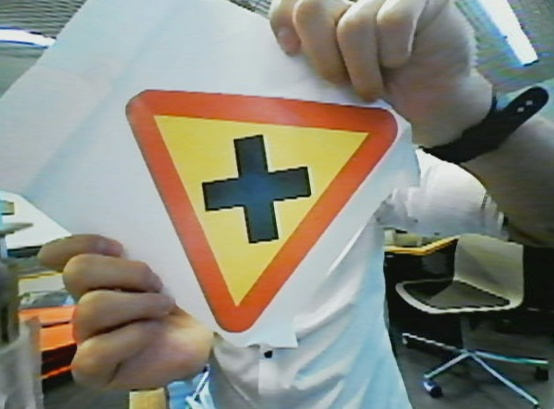junction: (104, 76, 432, 346)
